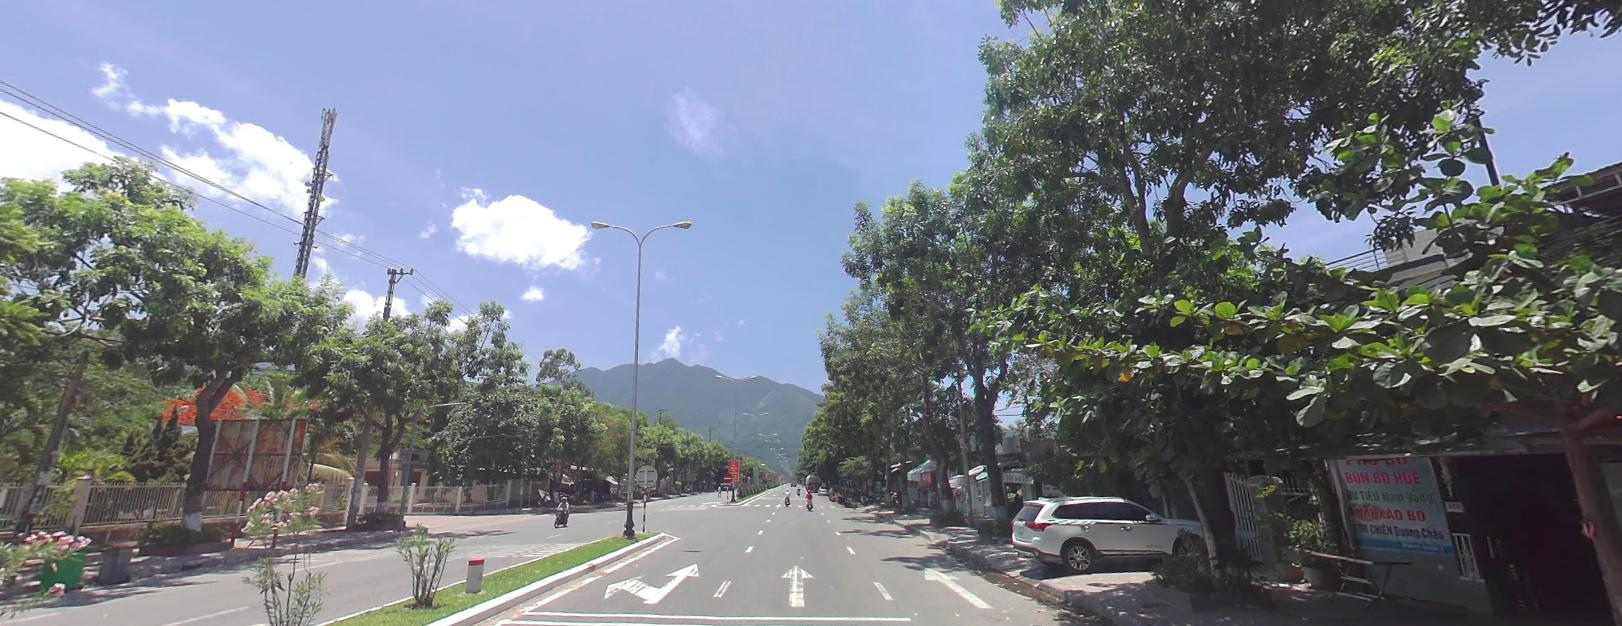Cam nguoc chieu: (722, 472, 731, 481)
